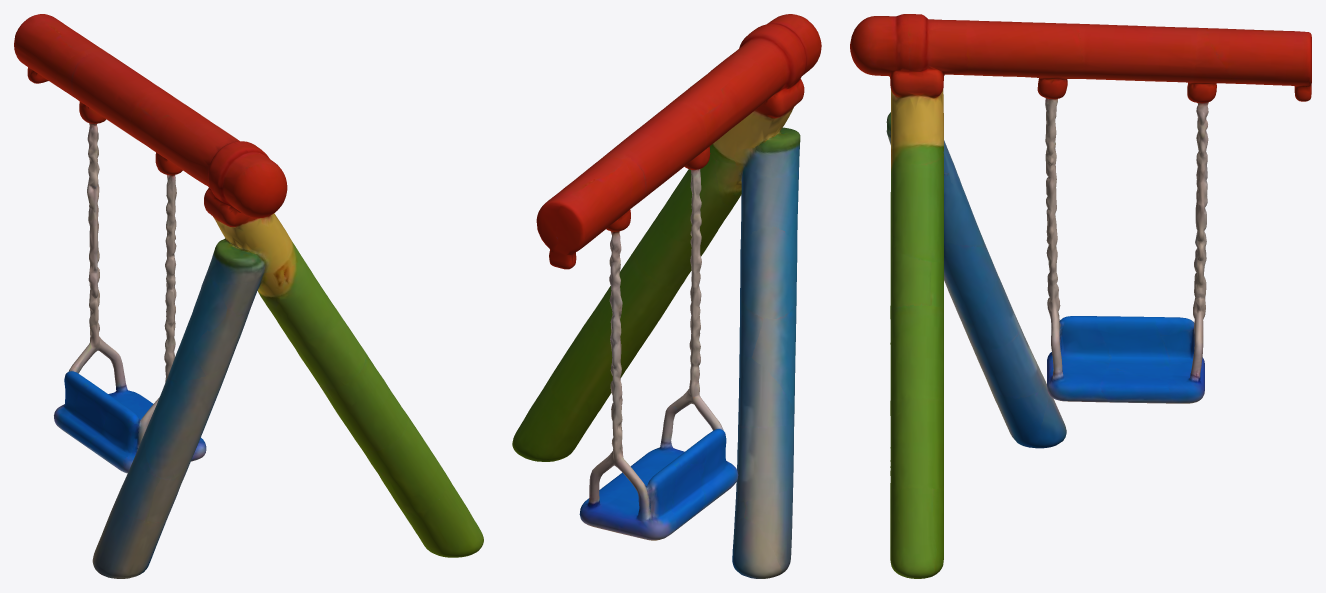
Rendered from playground_swing.glb.
3 renders of one model, left to right at view 1: azimuth 30°, elevation 25°; view 2: azimuth 150°, elevation 25°; view 3: azimuth 270°, elevation 25°, orthographic. The views are drawn at different scales.
Visible parts, largest first — view 1: tripo_node_f3ff851d-e993-4314-946f-1c3809cf8f22; view 2: tripo_node_f3ff851d-e993-4314-946f-1c3809cf8f22; view 3: tripo_node_f3ff851d-e993-4314-946f-1c3809cf8f22.
Boxes of the visible parts, box(x1,y1,x2,y2) form: tripo_node_f3ff851d-e993-4314-946f-1c3809cf8f22: box(14, 14, 483, 578); tripo_node_f3ff851d-e993-4314-946f-1c3809cf8f22: box(512, 14, 821, 578); tripo_node_f3ff851d-e993-4314-946f-1c3809cf8f22: box(850, 14, 1311, 578).
Bounding box in the file's own units: 0.6936 × 0.9493 × 0.883.
1 material, 1 textured.
